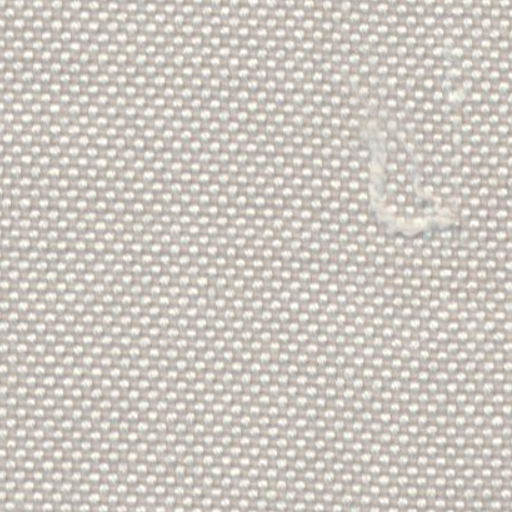DuanSha: (352, 102, 473, 246)
